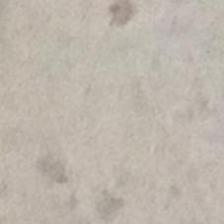Non_Crack: (15, 39, 224, 203)
